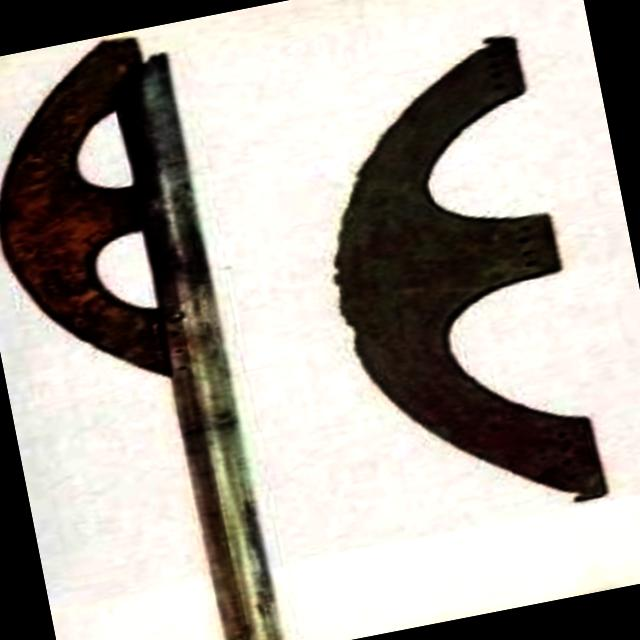ax: (0, 23, 294, 640), (288, 22, 620, 554)
